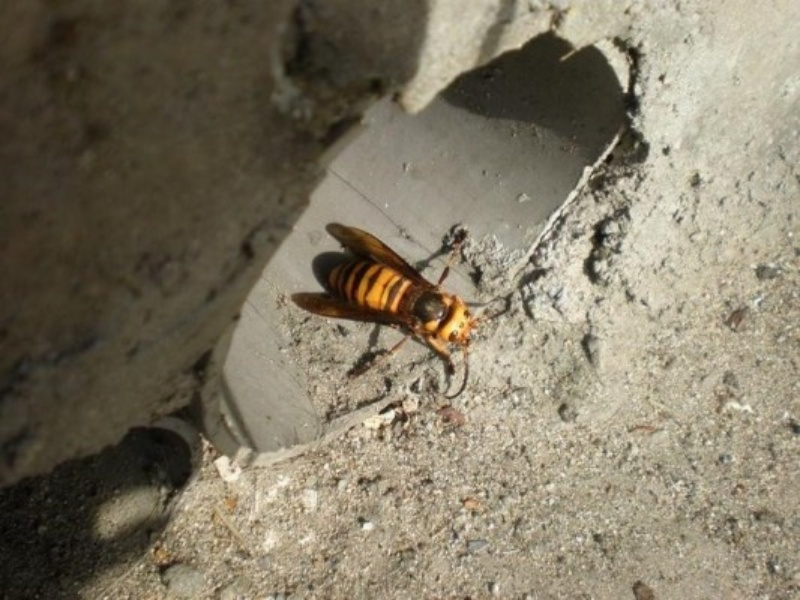asian_giant_hornet: (326, 224, 495, 393)
